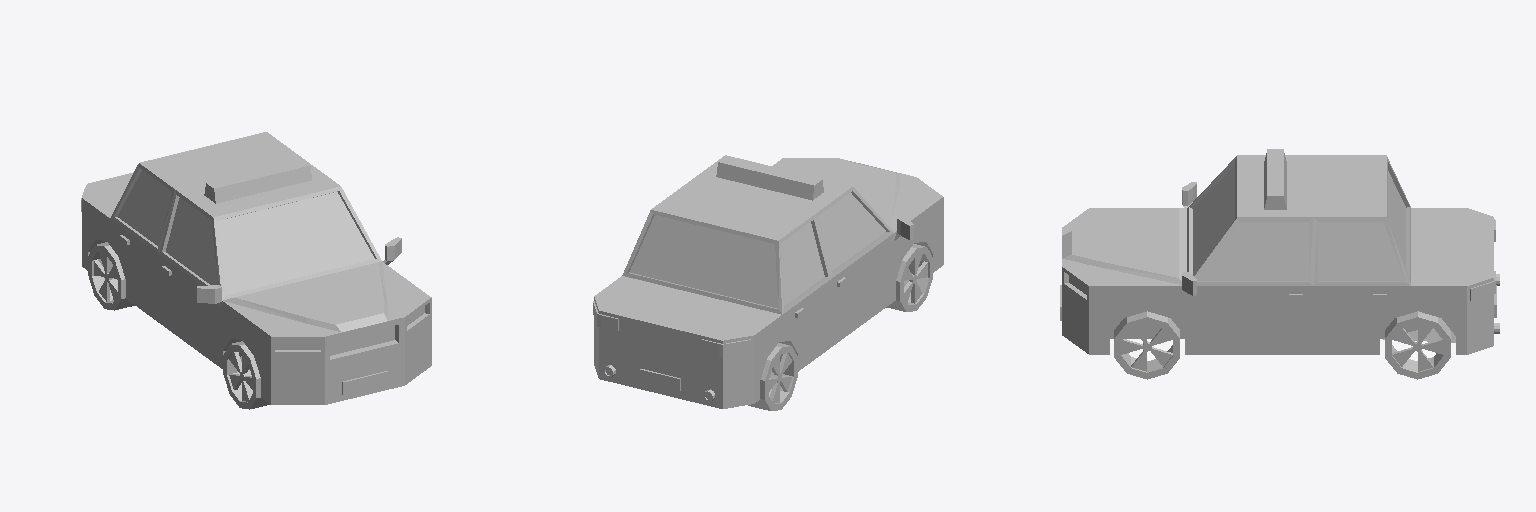
Rendered from police_sedan.obj.
3 renders of one model, left to right at view 1: azimuth 30°, elevation 25°; view 2: azimuth 150°, elevation 25°; view 3: azimuth 270°, elevation 25°, orthographic.
Visible parts, largest first — view 1: Police_Sedan; view 2: Police_Sedan; view 3: Police_Sedan.
Part boxes in pixels (x1,y1,x2,y2): Police_Sedan: (81,132,431,409); Police_Sedan: (593,155,943,410); Police_Sedan: (1060,149,1499,379).
Size of the model in its own units: 2.81 by 2.19 by 5.23.